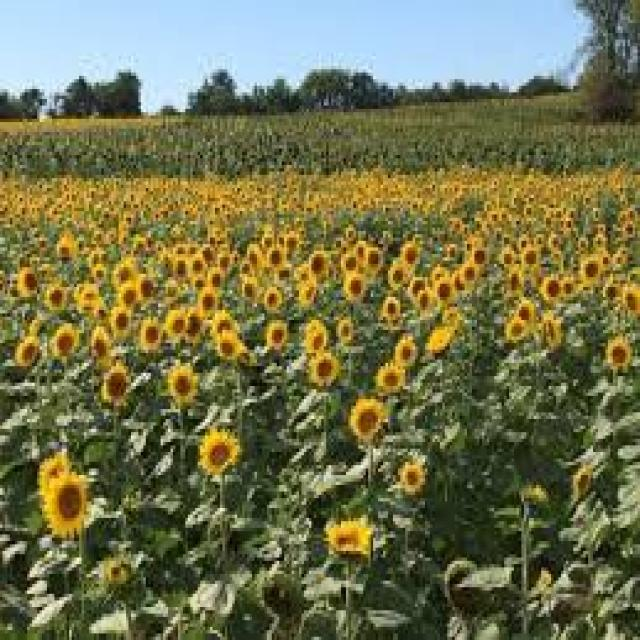sunflower: (36, 450, 88, 540), (326, 511, 373, 561), (198, 422, 237, 478), (96, 360, 131, 406), (348, 396, 383, 442), (374, 358, 409, 401), (306, 350, 341, 386), (214, 328, 248, 365), (399, 460, 429, 500), (426, 323, 458, 360), (12, 264, 40, 303), (49, 322, 79, 358), (383, 256, 413, 292), (393, 331, 422, 368), (603, 337, 630, 376), (306, 247, 334, 284), (109, 303, 136, 340), (42, 280, 69, 317), (341, 269, 368, 305), (170, 364, 192, 408), (538, 272, 564, 309), (54, 232, 82, 266), (140, 315, 162, 355), (262, 320, 287, 353), (306, 318, 328, 355), (15, 336, 37, 373), (242, 239, 264, 276), (357, 247, 387, 274), (134, 269, 156, 305), (118, 285, 144, 315), (166, 312, 190, 344), (185, 249, 208, 282), (578, 254, 600, 287), (434, 274, 454, 310), (620, 287, 640, 320), (196, 287, 218, 317), (455, 257, 477, 287), (468, 239, 488, 272), (395, 241, 420, 267), (506, 313, 526, 343), (522, 244, 542, 274), (214, 249, 234, 279), (383, 294, 403, 323), (241, 270, 258, 304), (499, 244, 519, 267), (263, 246, 283, 269), (262, 288, 279, 312)
